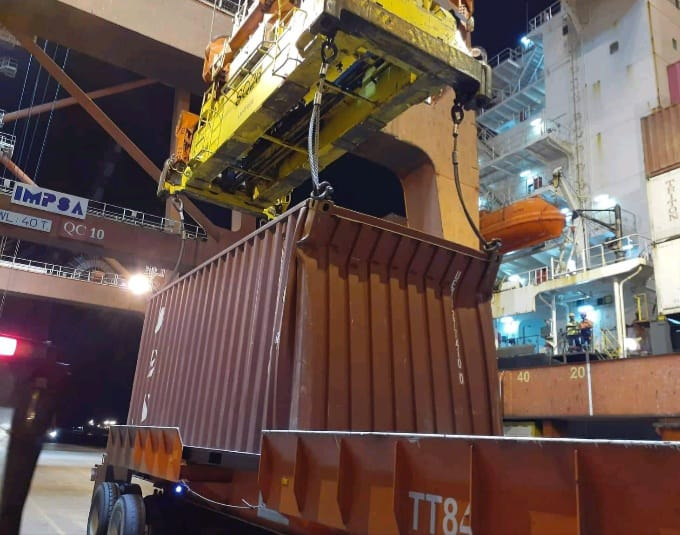dented: (293, 203, 488, 314)
